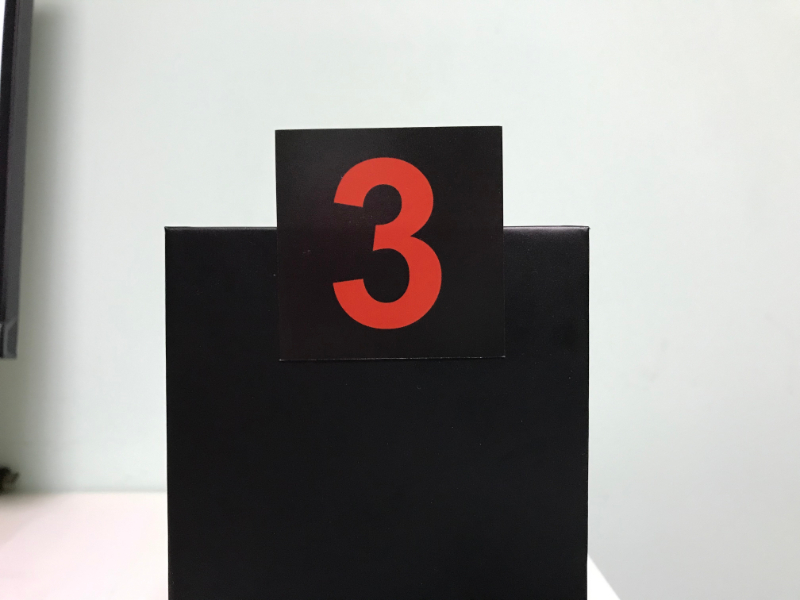Three-8: (282, 134, 502, 355)
